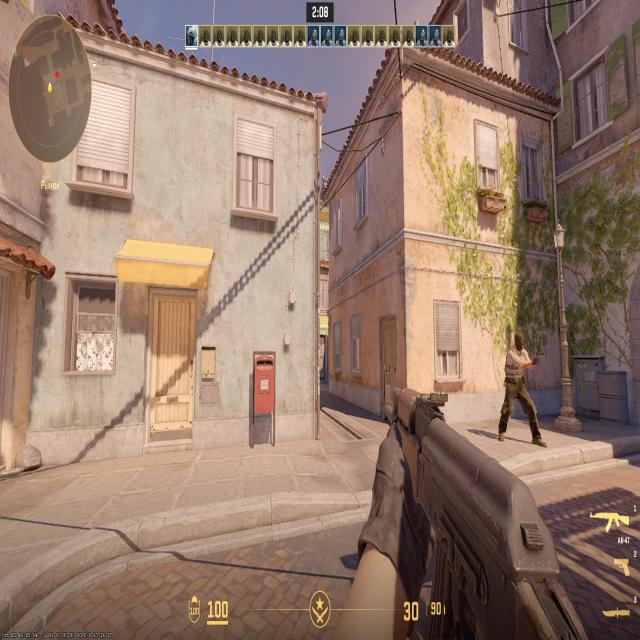T: (508, 329, 527, 436)
T_heat: (516, 336, 522, 352)
